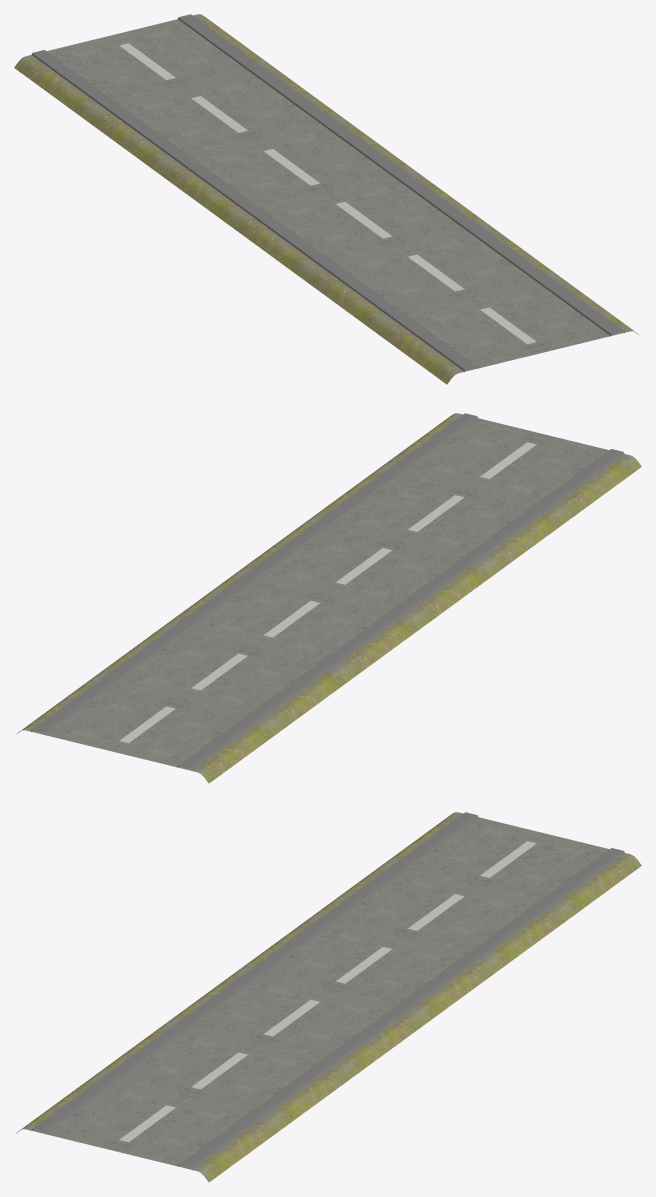
The model's file is SM_road_straight.fbx.
3 renders of one model, top to bottom at view 1: azimuth 30°, elevation 25°; view 2: azimuth 150°, elevation 25°; view 3: azimuth 330°, elevation 25°, orthographic.
Parts seen in each view (by area): view 1: Plane007; view 2: Plane007; view 3: Plane007.
Boxes of the visible parts, left/top/right/bottom form: Plane007: left=14, top=14, right=639, bottom=384; Plane007: left=16, top=413, right=641, bottom=783; Plane007: left=16, top=812, right=641, bottom=1182.
Size of the model in its own units: 184 by 9.41 by 709.
